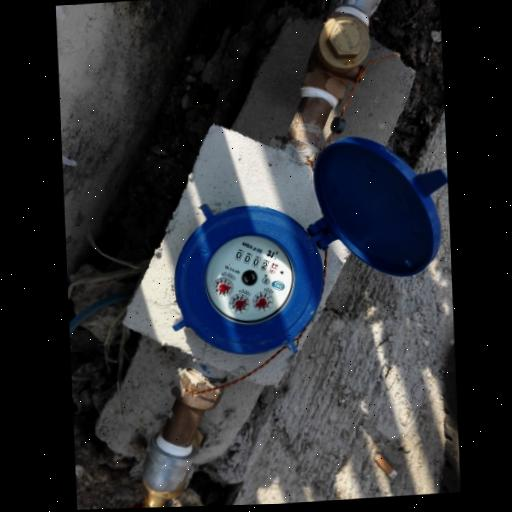0: (266, 261, 279, 276), (232, 248, 243, 261), (250, 255, 261, 268), (242, 252, 253, 264)
2: (258, 258, 271, 272)
border_water_meter_number: (230, 243, 281, 280)
